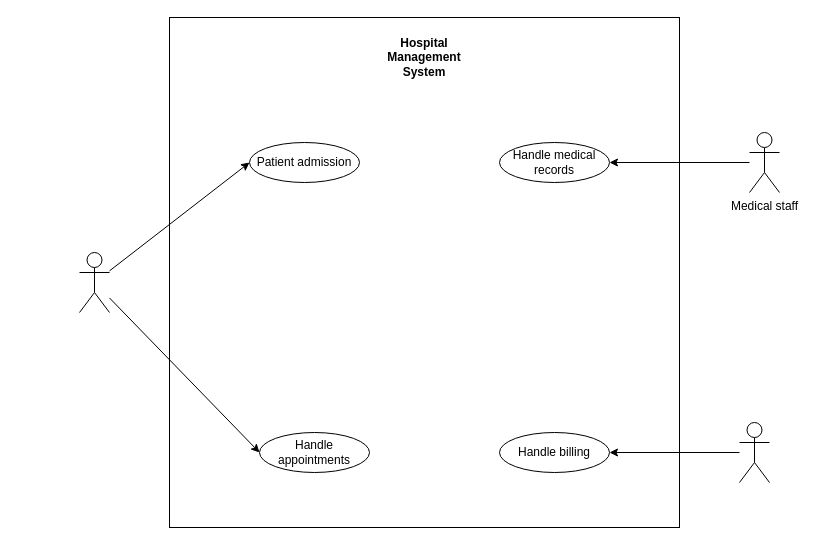
Image size: 820x545. Some labels were removed from this diagram. The shapes that lost their labels are listed below. From the top down, each one's centre as x and y in pixels, then its label:
pixel 94 282: Front desk staff/ Receptionist
pixel 754 452: Billing department
